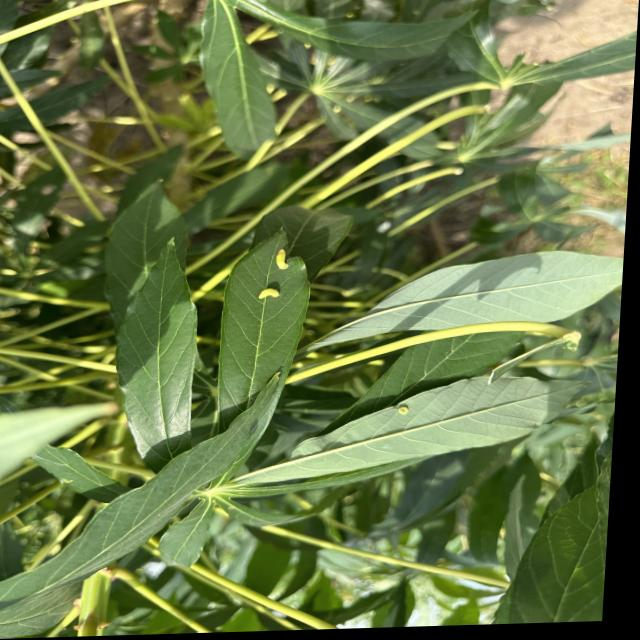Mosca: (249, 217, 294, 313), (371, 376, 424, 437)
